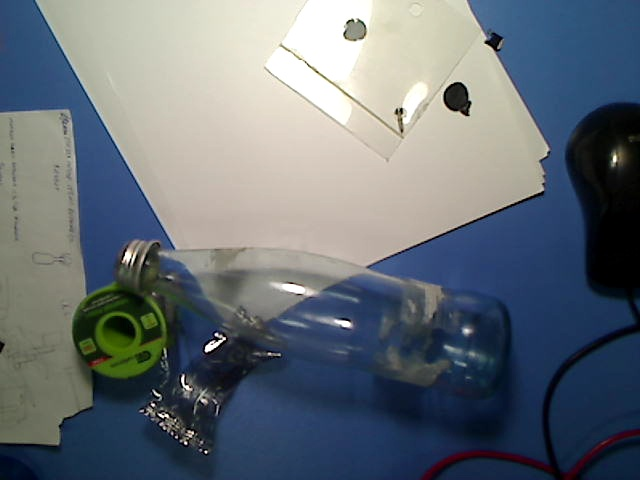bottle: (112, 237, 517, 391)
